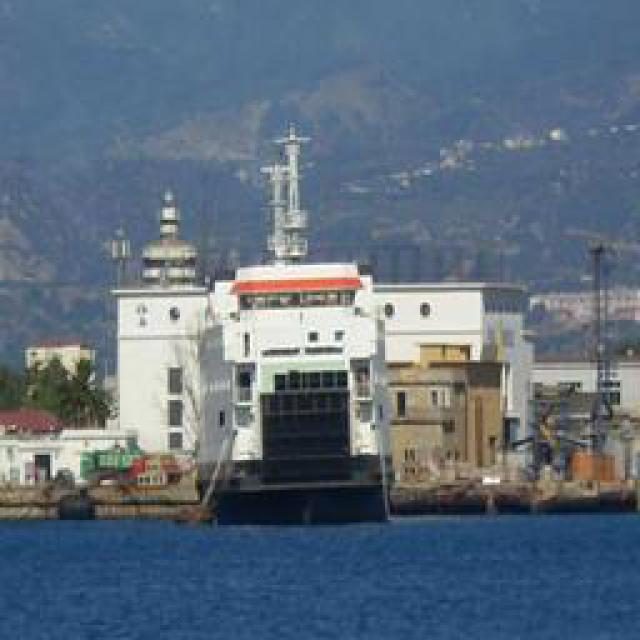Ship: (206, 260, 389, 513)
